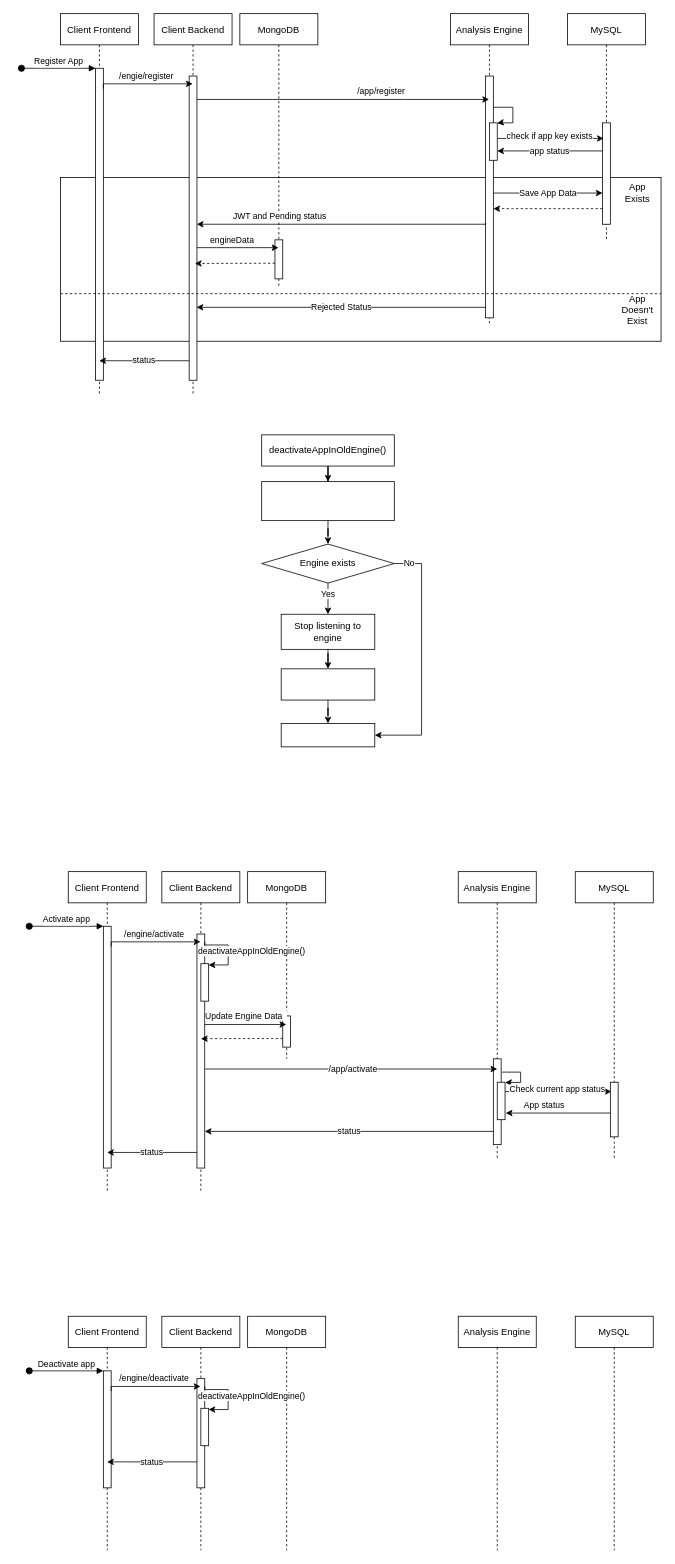
Some shapes in this 675 by 1564 pixel diagram are drawn without their labels. Each missing label, with the centre of its shape:
"Return status" belongs at (327,735).
"Search for the old Engine where the app is registred in MongoDB" belongs at (327,501).
"Send deactivation request to the engine" belongs at (327,684).
